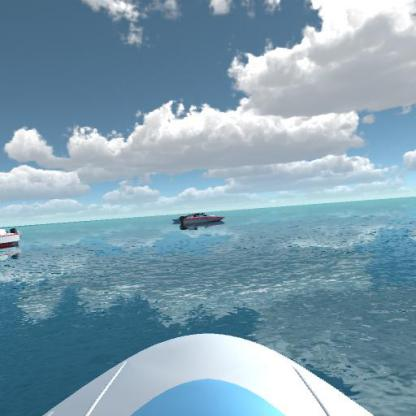usv1: (169, 207, 195, 224)
usv3: (176, 208, 226, 231), (0, 220, 27, 253)
